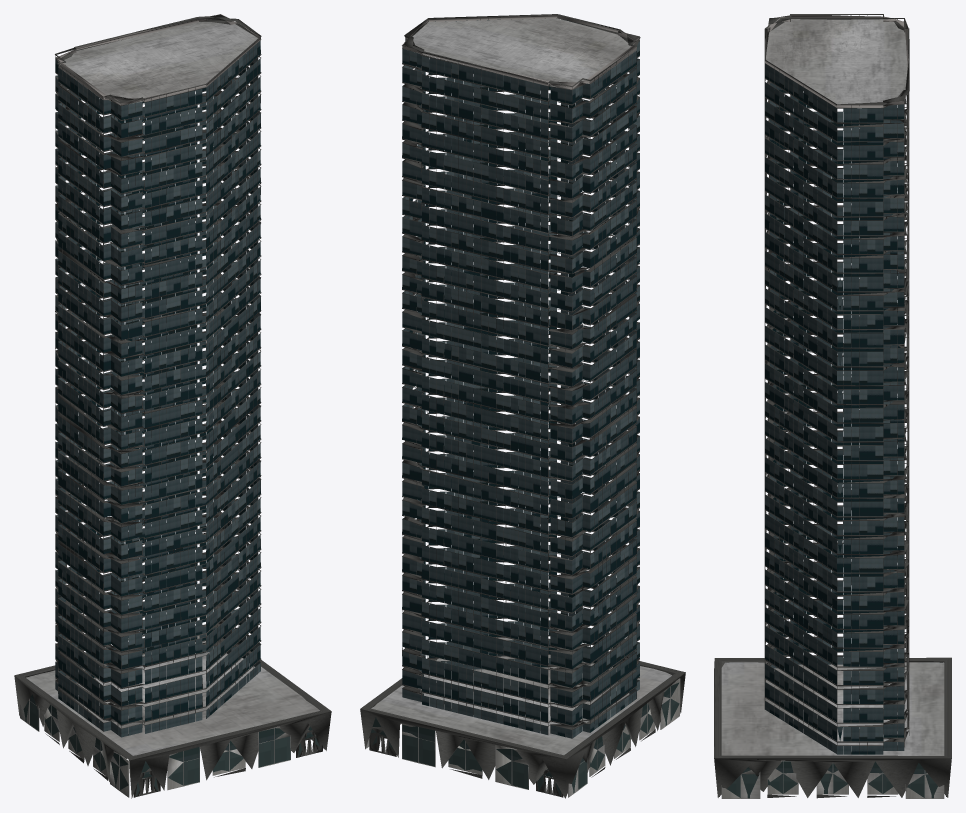
Rendered from glass-slant.glb.
3 renders of one model, left to right at view 1: azimuth 30°, elevation 25°; view 2: azimuth 150°, elevation 25°; view 3: azimuth 270°, elevation 25°, orthographic. The views are drawn at different scales.
Parts seen in each view (by area): view 1: Glass_Office_building2_slant; view 2: Glass_Office_building2_slant; view 3: Glass_Office_building2_slant.
Boxes of the visible parts, x1,y1,x2,y2 form: Glass_Office_building2_slant: (14, 14, 331, 798); Glass_Office_building2_slant: (360, 14, 685, 798); Glass_Office_building2_slant: (714, 14, 951, 798).
Bounding box in the file's own units: 35.29 × 113 × 35.29.
1 material, 1 textured.
